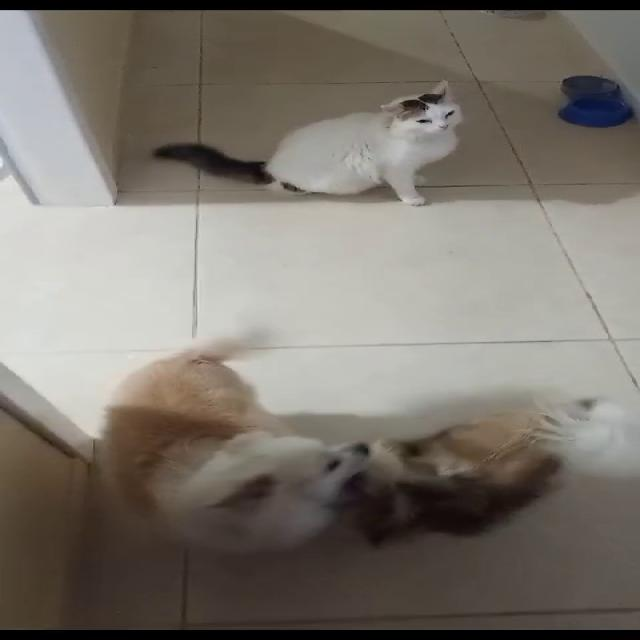Pedrita: (324, 375, 638, 544)
Simba: (172, 57, 525, 237)
Theo: (88, 318, 374, 550)
